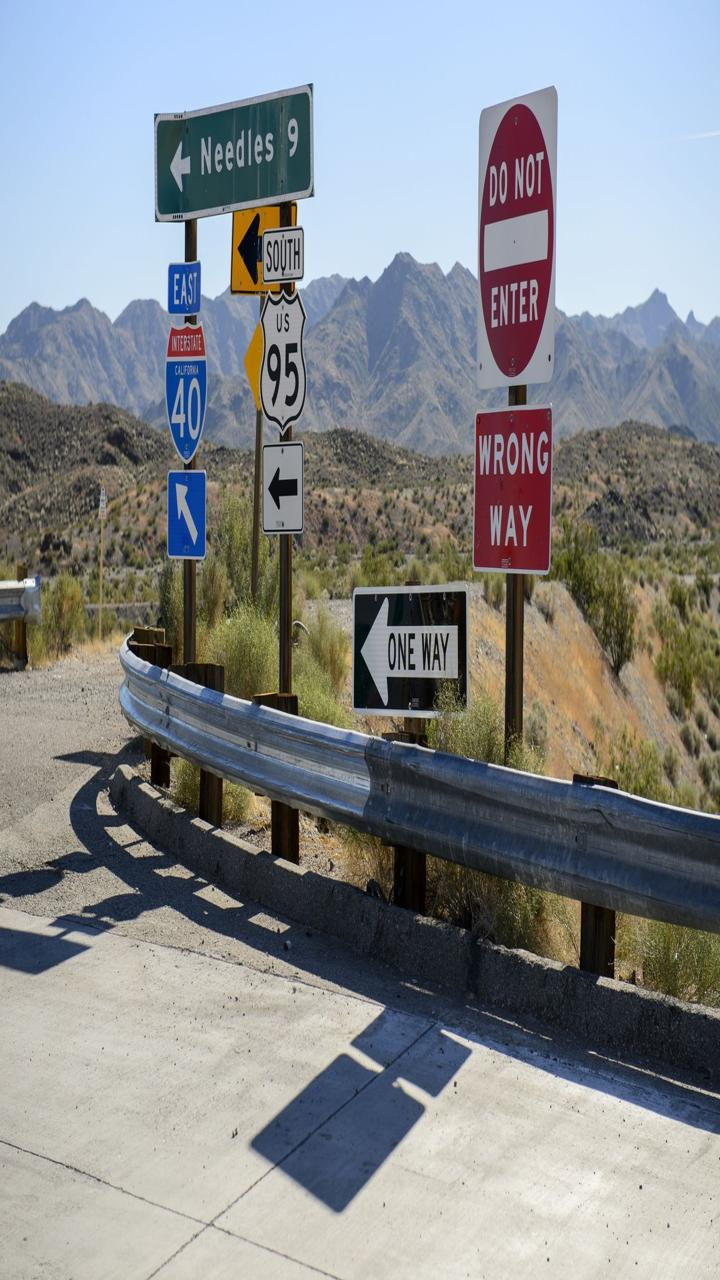Traffic sign: (470, 101, 582, 396), (152, 451, 216, 563), (246, 443, 310, 555)
